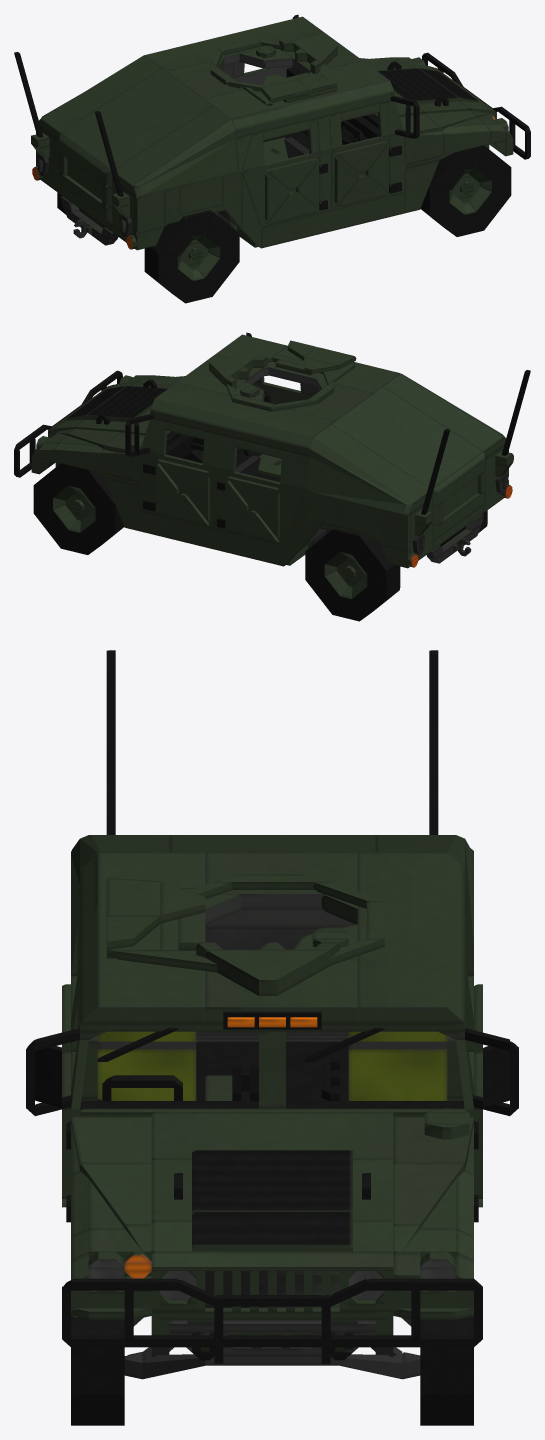
File: hummer.obj
3 views of the same model, one above another, from view 1: azimuth 30°, elevation 25°; view 2: azimuth 150°, elevation 25°; view 3: azimuth 270°, elevation 25° (orthographic). The views are drawn at different scales.
Parts seen in each view (by area): view 1: bodyDoorCloseModel32, bodyModel33, bodyModel179, bodyModel127, bodyModel0, bodyModel182, bodyModel177, bodyDoorCloseModel8, bodyModel308, bodyModel31, bodyModel128, bodyModel23 (+67 smaller); view 2: bodyDoorCloseModel32, bodyModel127, bodyModel182, bodyModel101, bodyModel33, bodyModel179, bodyModel180, bodyDoorCloseModel30, bodyModel308, bodyModel126, bodyModel128, bodyModel118 (+66 smaller); view 3: bodyModel127, bodyModel33, bodyModel16, bodyModel308, bodyModel309, bodyModel66, bodyModel128, bodyModel129, bodyModel142, bodyModel18, bodyModel53, bodyModel343 (+55 smaller).
Part boxes in pixels (x1=…): bodyDoorCloseModel32: x1=61, y1=68, x2=212, y2=170; bodyModel33: x1=204, y1=61, x2=394, y2=130; bodyModel179: x1=116, y1=106, x2=235, y2=186; bodyModel127: x1=144, y1=16, x2=324, y2=71; bodyModel0: x1=260, y1=193, x2=404, y2=248; bodyModel182: x1=41, y1=55, x2=161, y2=133; bodyModel177: x1=138, y1=139, x2=237, y2=195; bodyDoorCloseModel8: x1=241, y1=153, x2=319, y2=227; bodyModel308: x1=377, y1=68, x2=459, y2=104; bodyModel31: x1=235, y1=93, x2=390, y2=138; bodyModel128: x1=166, y1=61, x2=244, y2=99; bodyModel23: x1=179, y1=177, x2=222, y2=215; bodyDoorCloseModel32: x1=332, y1=386, x2=483, y2=488; bodyModel127: x1=150, y1=382, x2=335, y2=448; bodyModel182: x1=309, y1=424, x2=428, y2=504; bodyModel101: x1=140, y1=511, x2=283, y2=566; bodyModel33: x1=216, y1=334, x2=400, y2=393; bodyModel179: x1=383, y1=373, x2=503, y2=451; bodyModel180: x1=307, y1=457, x2=406, y2=514; bodyDoorCloseModel30: x1=225, y1=471, x2=303, y2=545; bodyModel308: x1=85, y1=386, x2=167, y2=422; bodyModel126: x1=154, y1=411, x2=309, y2=456; bodyModel128: x1=294, y1=383, x2=373, y2=421; bodyModel118: x1=322, y1=495, x2=365, y2=533; bodyModel127: x1=357, y1=852, x2=464, y2=1023; bodyModel33: x1=80, y1=852, x2=205, y2=1023; bodyModel16: x1=151, y1=1112, x2=393, y2=1160; bodyModel308: x1=192, y1=1150, x2=352, y2=1214; bodyModel309: x1=192, y1=1212, x2=352, y2=1251; bodyModel66: x1=348, y1=1041, x2=447, y2=1100; bodyModel128: x1=205, y1=852, x2=357, y2=909; bodyModel129: x1=205, y1=958, x2=357, y2=1023; bodyModel142: x1=151, y1=1251, x2=393, y2=1270; bodyModel18: x1=151, y1=1158, x2=393, y2=1222; bodyModel53: x1=97, y1=1041, x2=196, y2=1100; bodyModel343: x1=205, y1=949, x2=330, y2=995.
Size of the model in its own units: 109 by 50 by 55.
